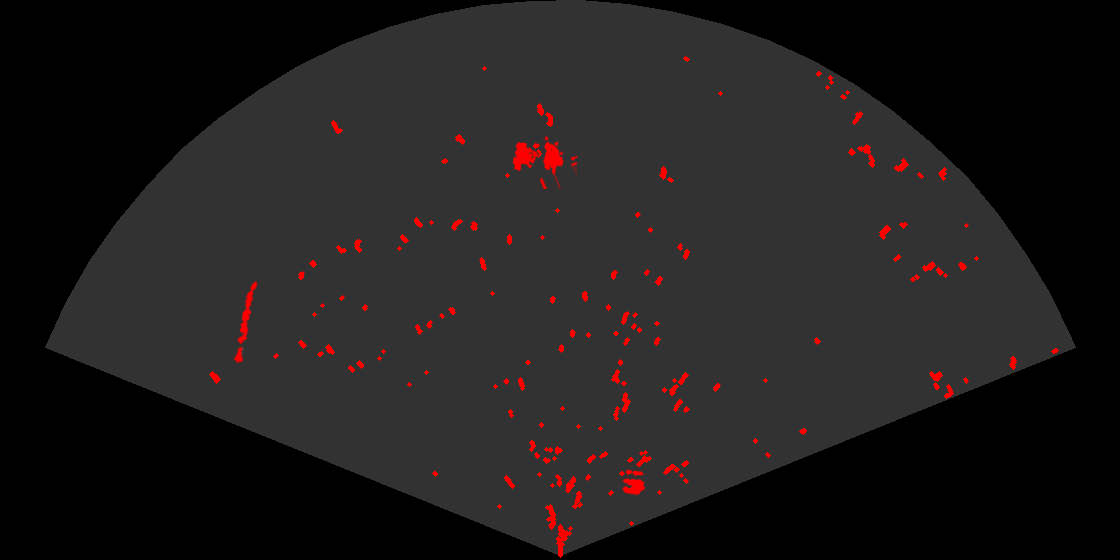ball: (620, 468, 647, 497)
cage: (511, 135, 577, 189)
chain: (232, 279, 259, 364)
